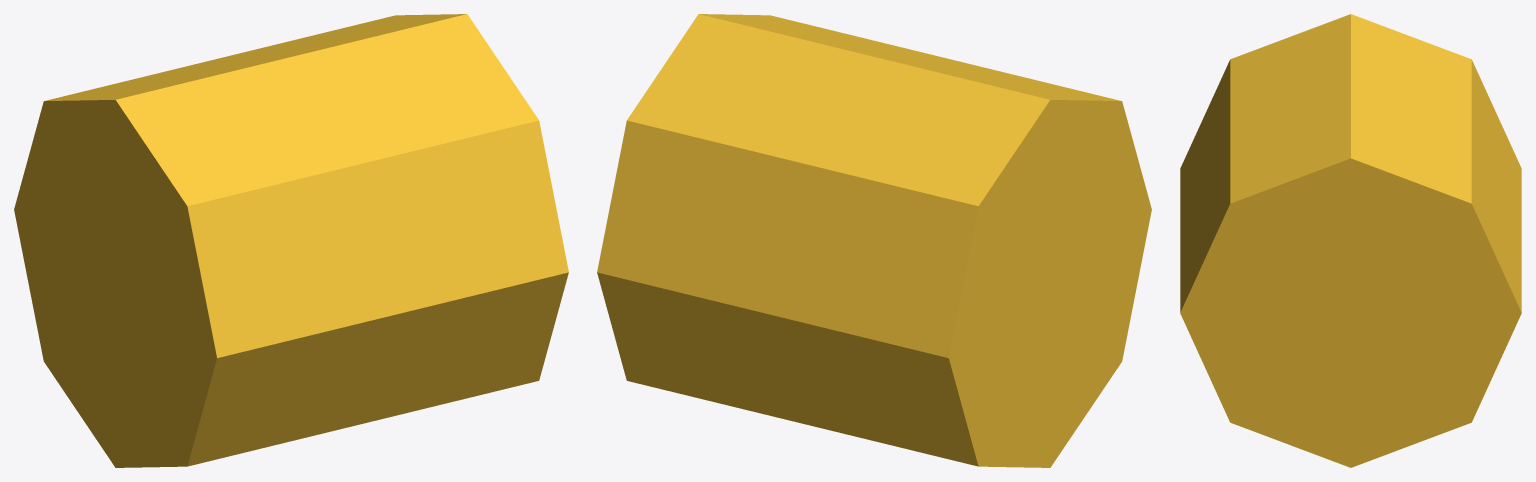
The model's file is ballot.glb.
The picture shows the model from 3 angles, left to right: view 1: azimuth 30°, elevation 25°; view 2: azimuth 150°, elevation 25°; view 3: azimuth 270°, elevation 25°; orthographic projection. The views are drawn at different scales.
Visible parts, largest first — view 1: map.002; view 2: map.002; view 3: map.002.
Part boxes in pixels (box(x1,y1,x2,y2)): map.002: box(14, 14, 568, 467); map.002: box(597, 14, 1151, 467); map.002: box(1180, 14, 1521, 467).
Bounding box in the file's own units: 0.6053 × 0.6053 × 0.6053.
Materials: 1 (1 with a texture image).
